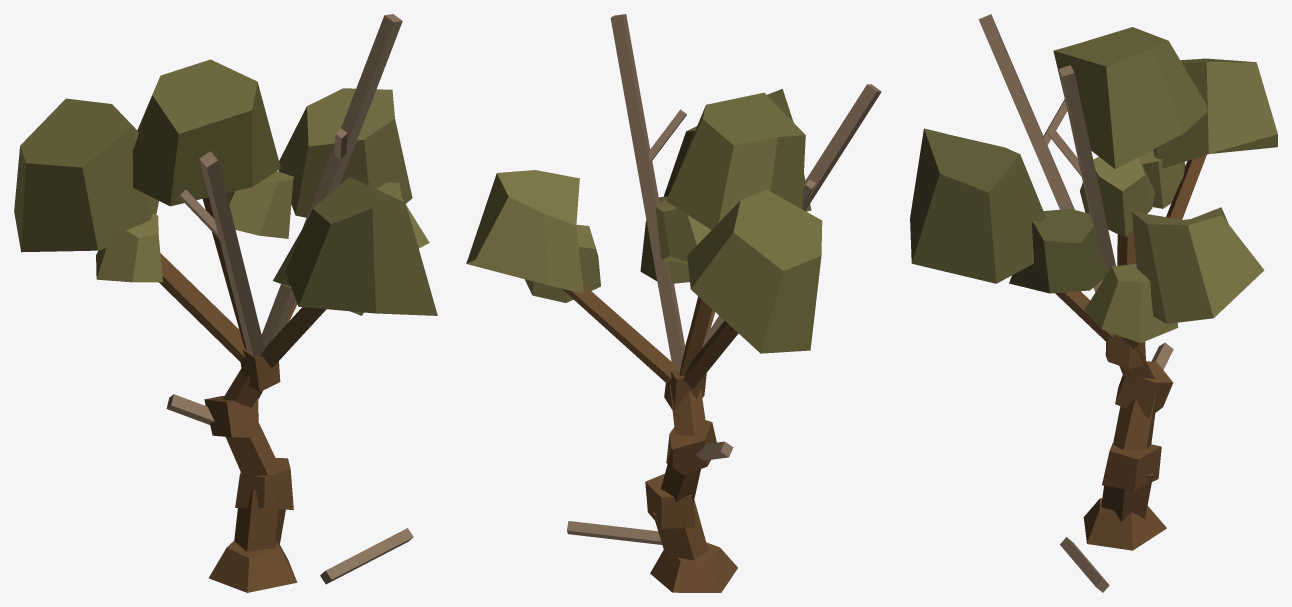
The model's file is orchard_tree.glb.
3 renders of one model, left to right at view 1: azimuth 30°, elevation 25°; view 2: azimuth 150°, elevation 25°; view 3: azimuth 270°, elevation 25°, orthographic. The views are drawn at different scales.
Parts seen in each view (by area): view 1: orchard_tree; view 2: orchard_tree; view 3: orchard_tree.
Part boxes in pixels (left/top/right/bottom): orchard_tree: left=14, top=14, right=437, bottom=592; orchard_tree: left=466, top=14, right=881, bottom=592; orchard_tree: left=910, top=14, right=1277, bottom=592.
Bounding box in the file's own units: 4.42 × 6.3 × 4.06.
